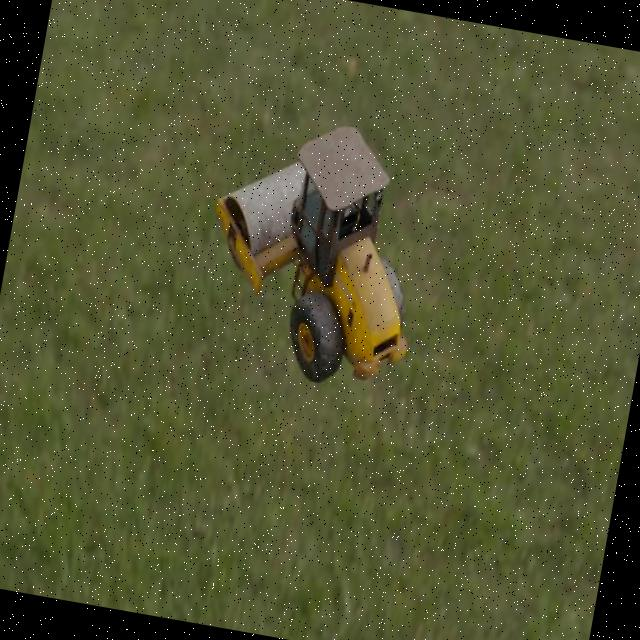Roller: (188, 104, 442, 397)
